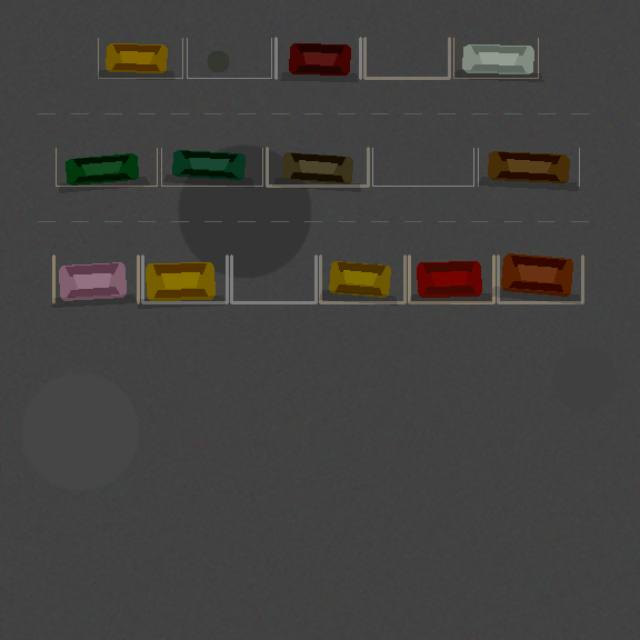space-empty: (231, 256, 316, 302), (372, 148, 473, 186), (364, 38, 449, 78), (187, 38, 271, 78)
space-occupied: (53, 256, 138, 302), (142, 256, 227, 302), (320, 256, 404, 302), (409, 256, 493, 302), (498, 256, 582, 302), (56, 148, 157, 186), (161, 148, 262, 186), (267, 148, 368, 186), (478, 148, 579, 186), (453, 38, 538, 78), (98, 38, 182, 78), (276, 38, 360, 78)
